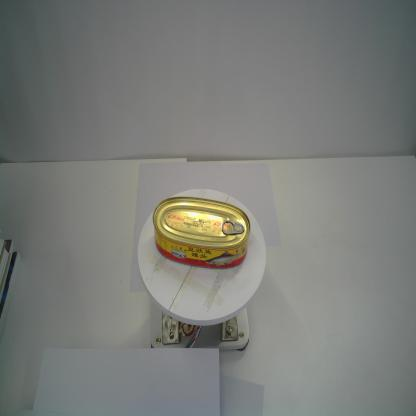Canned Food: (152, 195, 251, 268)
